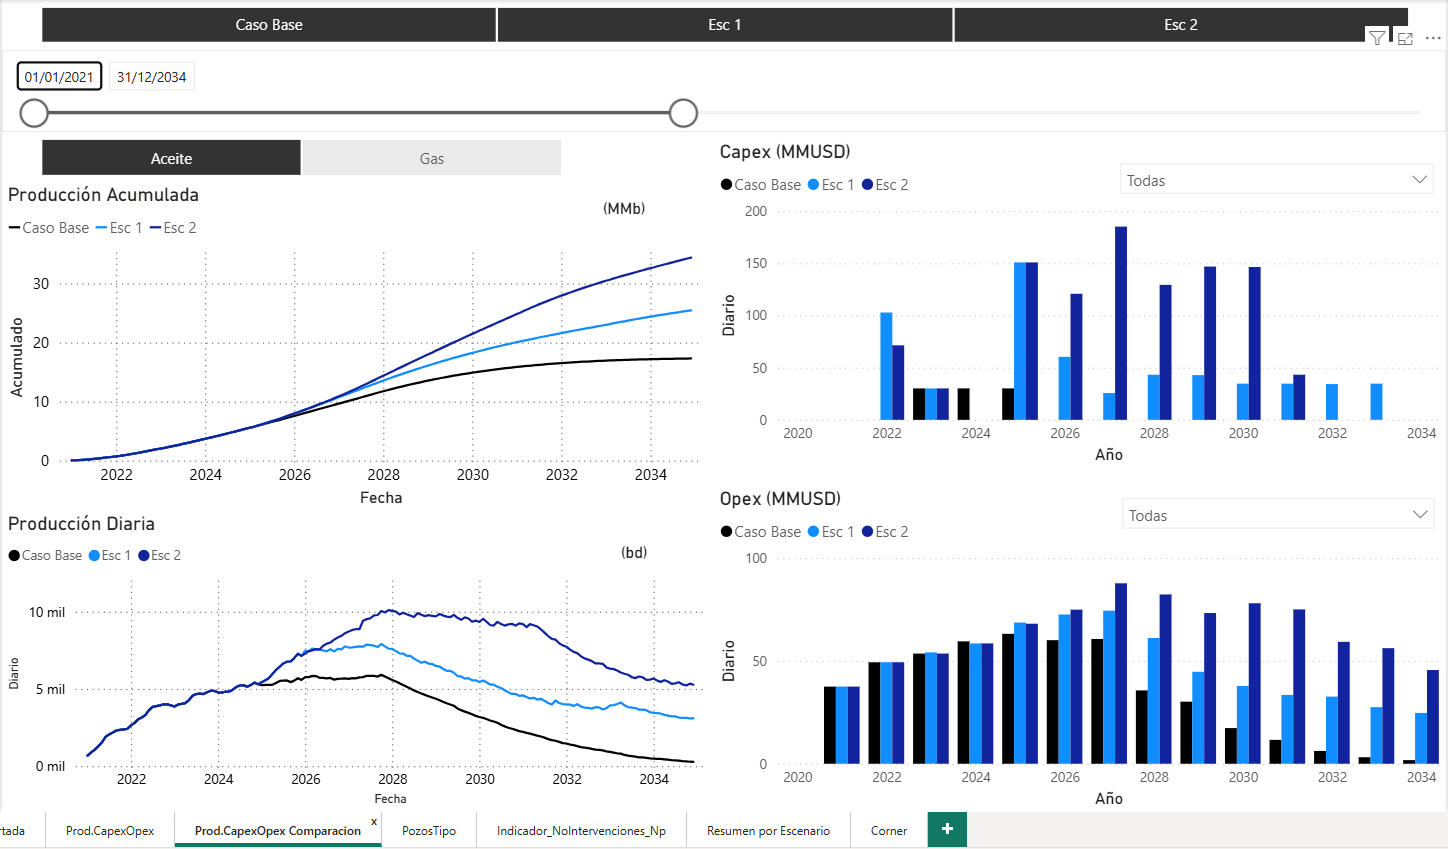

This screenshot's page, from the dashboard's own definition file:
{"tool":"powerbi","page":{"name":"Prod.CapexOpex Comparacion","canvas":[1280,720],"ordinal":2},"visuals":[{"type":"clusteredColumnChart","title":"Capex (MMUSD)","fields":{"Series":["DescEscenarios.Escenario"],"Y":["Sum(PBI MPP.Diario)"],"Category":["PBI MPP.Fecha.Variación.Jerarquía de fechas.Año"]},"box":[631.1,123.7,648.9,291.5],"z":0},{"type":"slicer","fields":{"Values":["DescEscenarios.Escenario"]},"box":[9.5,0,1261,43.9],"z":1000},{"type":"lineChart","title":"Producción Acumulada","fields":{"Y":["Sum(PBI MPP.Acumulado)"],"Series":["DescEscenarios.Escenario"],"Category":["PBI MPP.Año"]},"box":[0,162.2,631.1,291.5],"z":2000},{"type":"slicer","fields":{"Values":["PBI MPP.Concepto 2"]},"box":[9.6,116.9,510.1,45.4],"z":3000},{"type":"lineChart","title":"Producción Diaria","fields":{"Series":["DescEscenarios.Escenario"],"Category":["PBI MPP.Año"],"Y":["Sum(PBI MPP.Diario)"]},"box":[0,453.7,631.1,265.3],"z":4000},{"type":"slicer","fields":{"Values":["PBI MPP.Año"]},"box":[0,43.9,1280,73.5],"z":5000},{"type":"clusteredColumnChart","title":"Opex (MMUSD)","fields":{"Series":["DescEscenarios.Escenario"],"Y":["Sum(PBI MPP.Diario)"],"Category":["PBI MPP.Fecha.Variación.Jerarquía de fechas.Año"]},"box":[631.1,431.7,648.9,288.7],"z":6000},{"type":"slicer","fields":{"Values":["PBI MPP. Variable"]},"box":[981.7,134.7,298.3,50.9],"z":7000},{"type":"slicer","fields":{"Values":["PBI MPP. Variable"]},"box":[983,431.7,297,42.6],"z":8000},{"type":"card","fields":{"Values":["Min(PBI MPP.Unidad)"]},"box":[490.8,169.1,121,33],"z":9000},{"type":"card","fields":{"Values":["Min(PBI MPP.Unidad)"]},"box":[500.5,474.3,121,33],"z":10000}]}

Visuals, with their boxes on the page's 1280x720 design canvas (x1, y1, x2, y2). These are canvas units, not pixel positions in the 1448x849 screenshot, which may show the page scaled, cropped or inside an application window:
"Capex (MMUSD)" clusteredColumnChart: region(631, 124, 1280, 415)
slicer - DescEscenarios.Escenario: region(10, 0, 1270, 44)
"Producción Acumulada" lineChart: region(0, 162, 631, 454)
slicer - PBI MPP.Concepto 2: region(10, 117, 520, 162)
"Producción Diaria" lineChart: region(0, 454, 631, 719)
slicer - PBI MPP.Año: region(0, 44, 1280, 117)
"Opex (MMUSD)" clusteredColumnChart: region(631, 432, 1280, 720)
slicer - PBI MPP. Variable: region(982, 135, 1280, 186)
slicer - PBI MPP. Variable: region(983, 432, 1280, 474)
card - Min(PBI MPP.Unidad): region(491, 169, 612, 202)
card - Min(PBI MPP.Unidad): region(500, 474, 622, 507)
